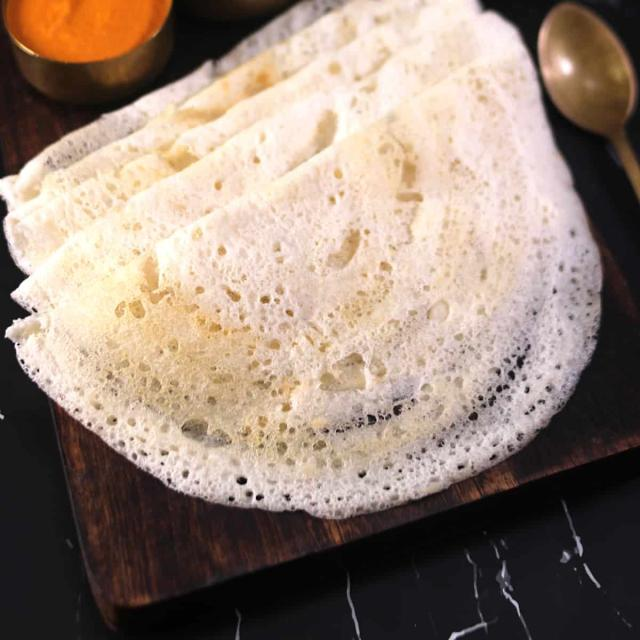DOSA: (0, 0, 606, 513)
